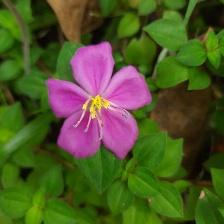malabar melastome: (48, 40, 154, 164)
